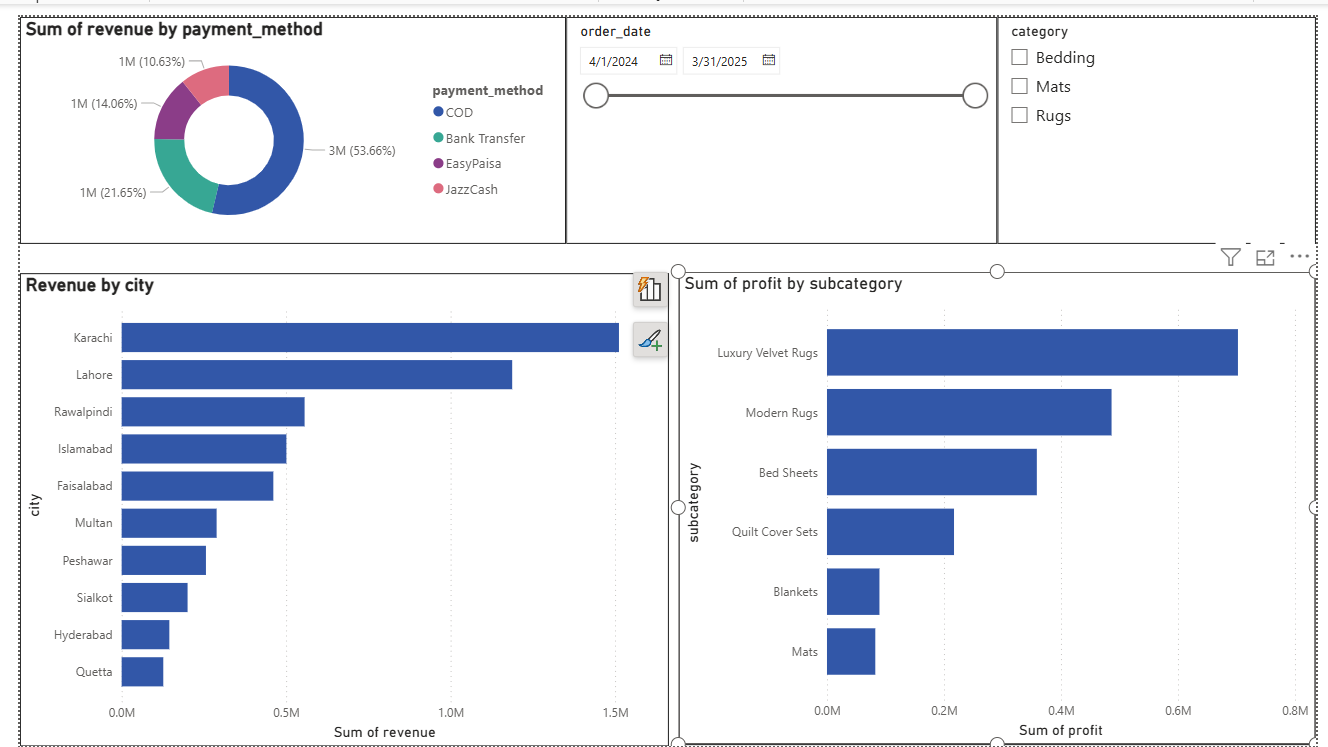

Layout of this report page (visuals, bound fields, positions):
{"tool":"powerbi","page":{"name":"02_sales_analysis","canvas":[1280,720],"ordinal":1},"visuals":[{"type":"donutChart","fields":{"Y":["Sum(arabian_homestyle_sales xlsx.revenue)"],"Category":["arabian_homestyle_sales xlsx.payment_method"]},"box":[0,0,539.6,223.6],"z":0},{"type":"slicer","fields":{"Values":["arabian_homestyle_sales xlsx.category"]},"box":[965.2,0,314.5,223.6],"z":1000},{"type":"clusteredBarChart","title":"Revenue by city","fields":{"Category":["arabian_homestyle_sales xlsx.city"],"Y":["Sum(arabian_homestyle_sales xlsx.revenue)"]},"box":[0,252.5,640.6,467.5],"z":2000},{"type":"barChart","fields":{"Category":["arabian_homestyle_sales xlsx.subcategory"],"Y":["Sum(arabian_homestyle_sales xlsx.profit)"]},"box":[651,252,629,467],"z":3000},{"type":"slicer","fields":{"Values":["arabian_homestyle_sales xlsx.order_date"]},"box":[539.6,0,425.6,223.6],"z":4000}]}

Visuals, with their boxes in screenshot pixels (x1, y1, x2, y2), scaled from the page's 1280x720 canvas onto the 1328x747 screenshot:
donutChart - Sum(arabian_homestyle_sales xlsx.revenue) x arabian_homestyle_sales xlsx.payment_method: 0,0,560,232
slicer - arabian_homestyle_sales xlsx.category: 1001,0,1327,232
"Revenue by city" clusteredBarChart: 0,262,665,746
barChart - arabian_homestyle_sales xlsx.subcategory x Sum(arabian_homestyle_sales xlsx.profit): 675,261,1327,746
slicer - arabian_homestyle_sales xlsx.order_date: 560,0,1001,232
